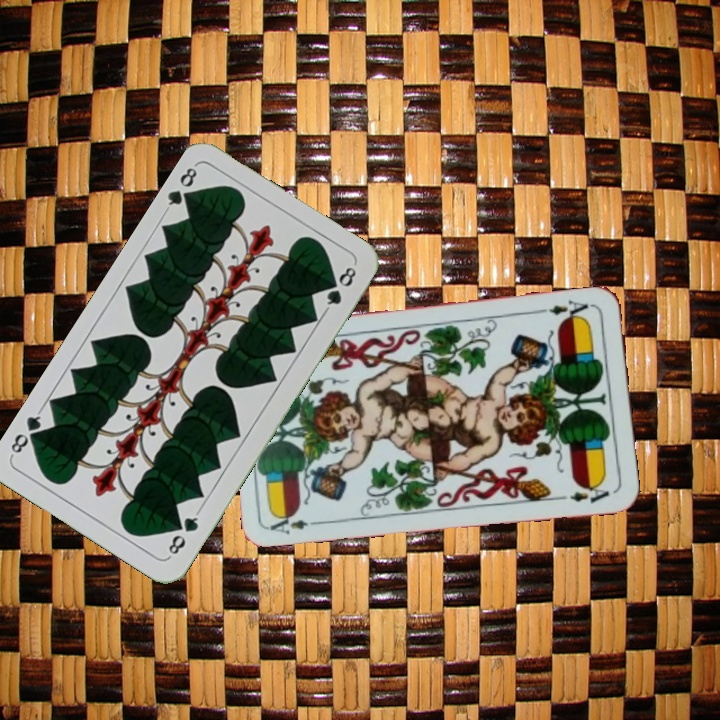EA: (537, 296, 596, 324), (266, 509, 325, 537)
G8: (161, 161, 200, 214), (164, 507, 202, 560)
